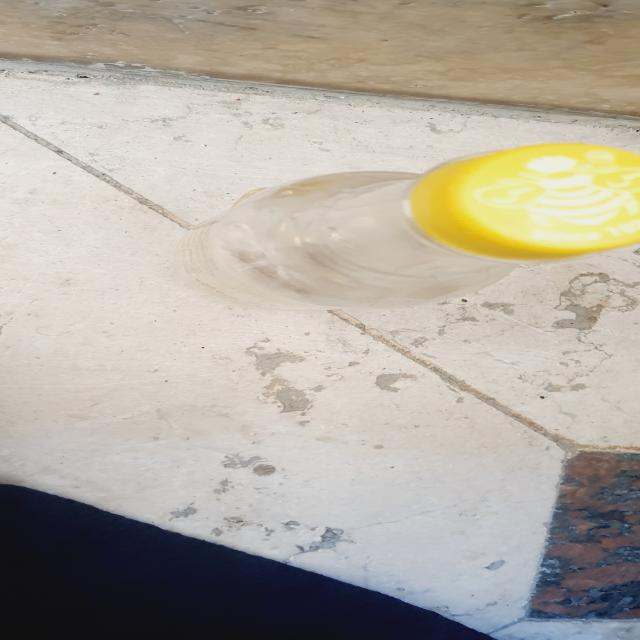plastic: (174, 145, 640, 305)
